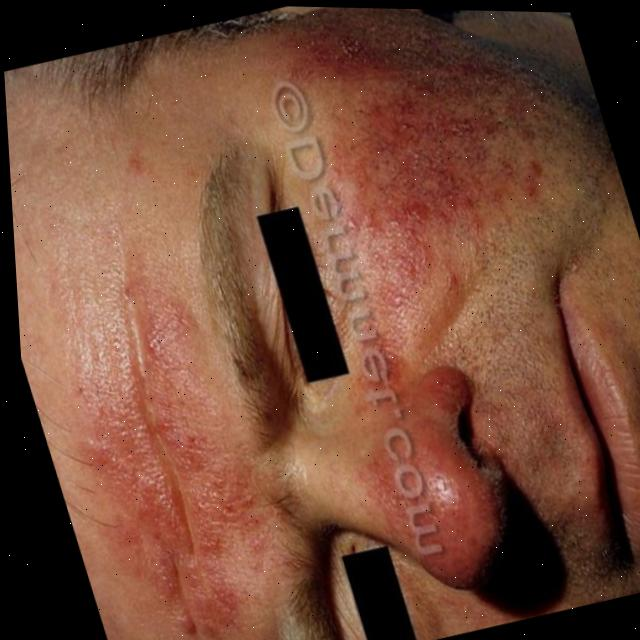Rosacea: (271, 6, 621, 360), (30, 274, 292, 640), (328, 361, 509, 595)
